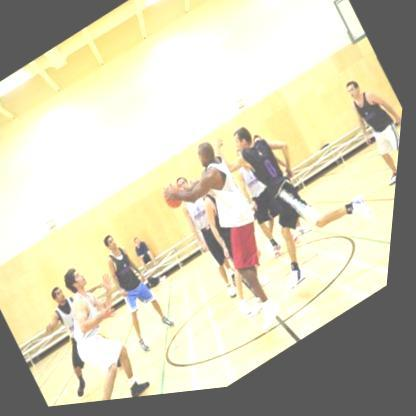basketball: (163, 186, 191, 216)
